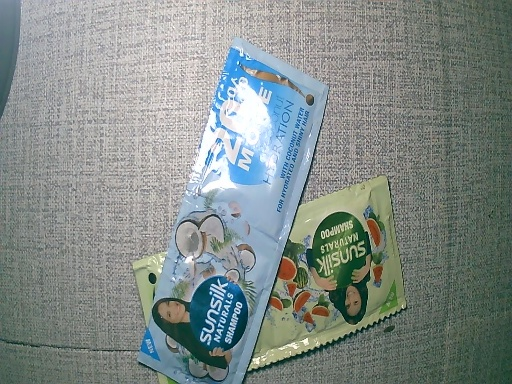plastic: (135, 32, 328, 381), (132, 170, 413, 372)
